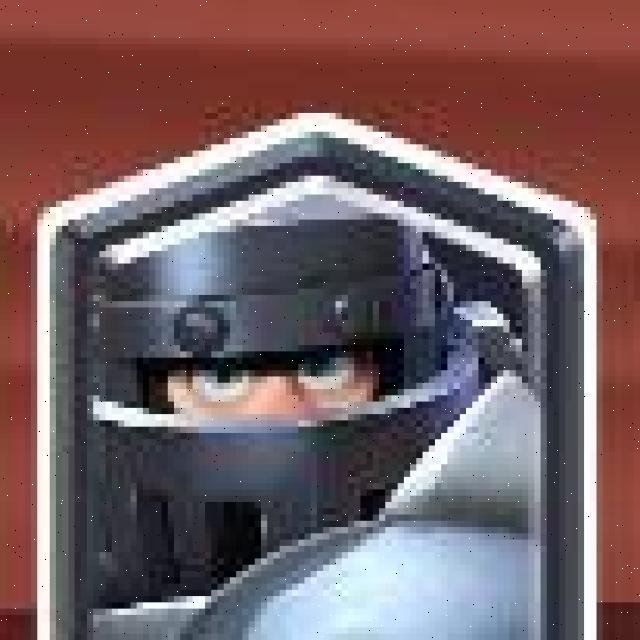Mega_Knight: (31, 112, 602, 640)
